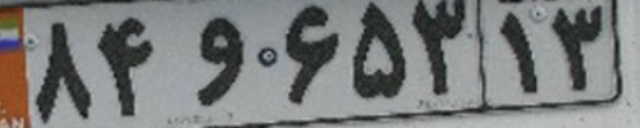1: (495, 11, 545, 92)
3: (414, 0, 467, 96), (553, 8, 607, 92)
4: (96, 16, 153, 115)
5: (353, 2, 408, 98)
6: (281, 4, 340, 102)
8: (38, 18, 94, 119)
vav: (196, 17, 244, 104)
